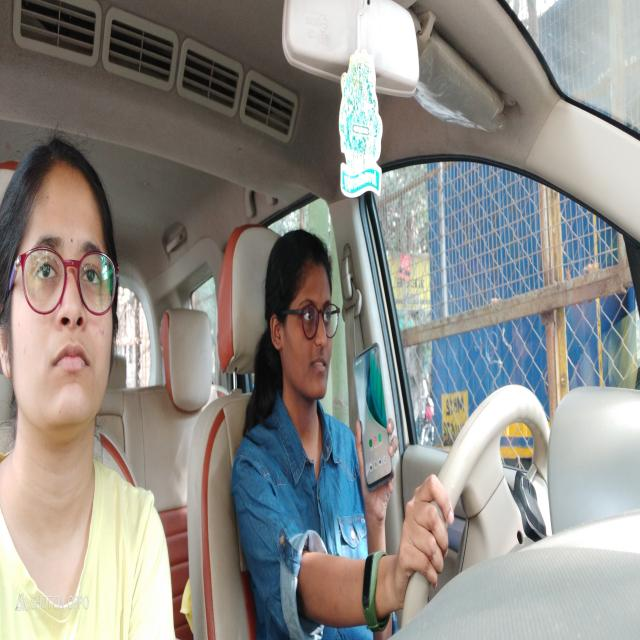mobile: (348, 347, 400, 489)
person: (4, 124, 121, 448), (263, 225, 342, 409)
